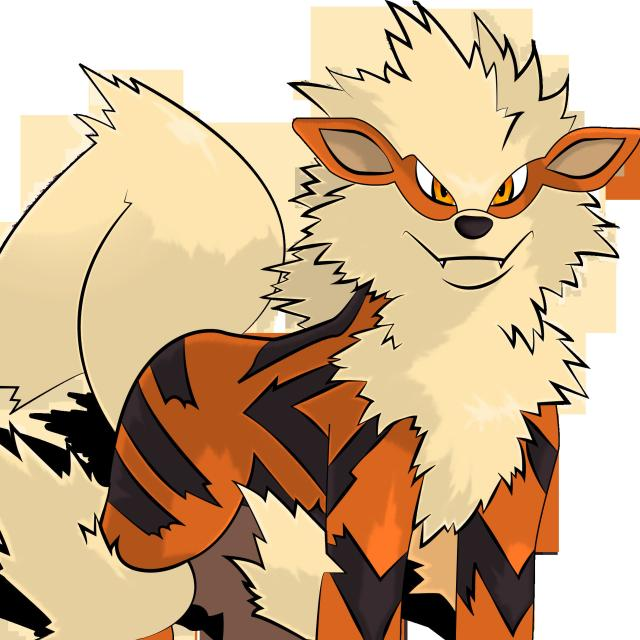Arcanine: (88, 71, 636, 640)
